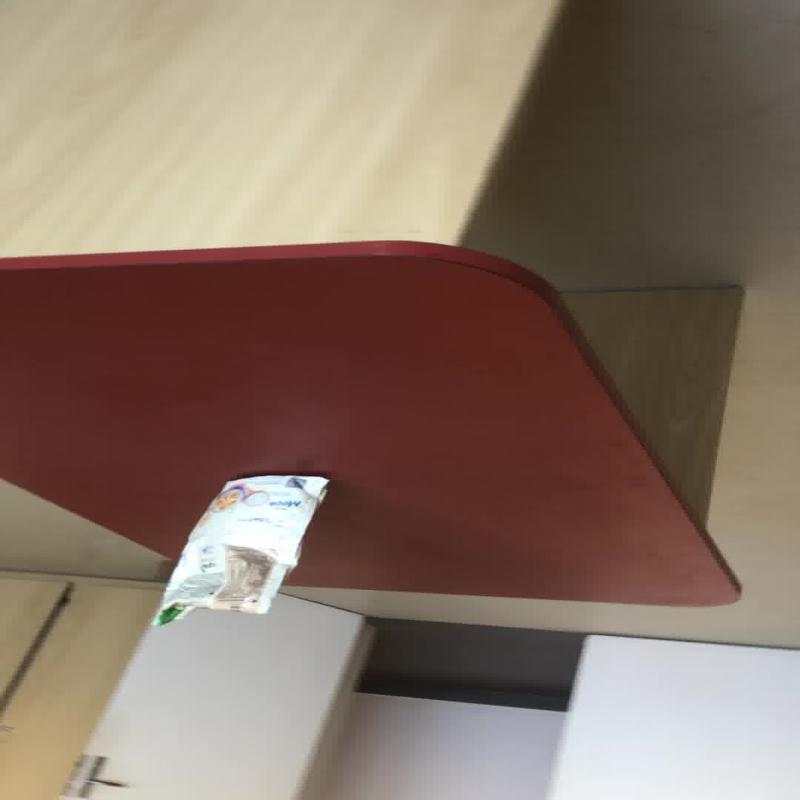corn flakes: (150, 472, 330, 626)
